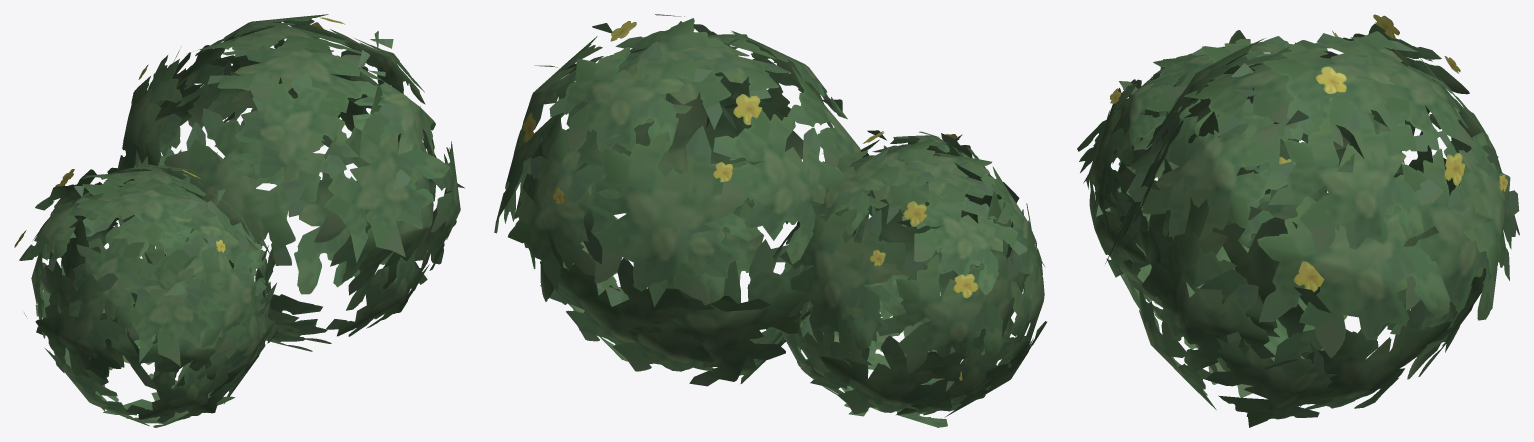
File: pref_sm_beach_bk_pointmol_grassplant08b_lv1.fbx
3 renders of one model, left to right at view 1: azimuth 30°, elevation 25°; view 2: azimuth 150°, elevation 25°; view 3: azimuth 270°, elevation 25°, orthographic. The views are drawn at different scales.
Parts seen in each view (by area): view 1: pref_sm_beach_bk_pointmol_grassplant08b_lv1; view 2: pref_sm_beach_bk_pointmol_grassplant08b_lv1; view 3: pref_sm_beach_bk_pointmol_grassplant08b_lv1.
Part boxes in pixels (x1,y1,x2,y2): pref_sm_beach_bk_pointmol_grassplant08b_lv1: [14, 14, 464, 427]; pref_sm_beach_bk_pointmol_grassplant08b_lv1: [494, 14, 1046, 427]; pref_sm_beach_bk_pointmol_grassplant08b_lv1: [1077, 14, 1519, 427].
Size of the model in its own units: 5.39 by 3.99 by 4.16.
